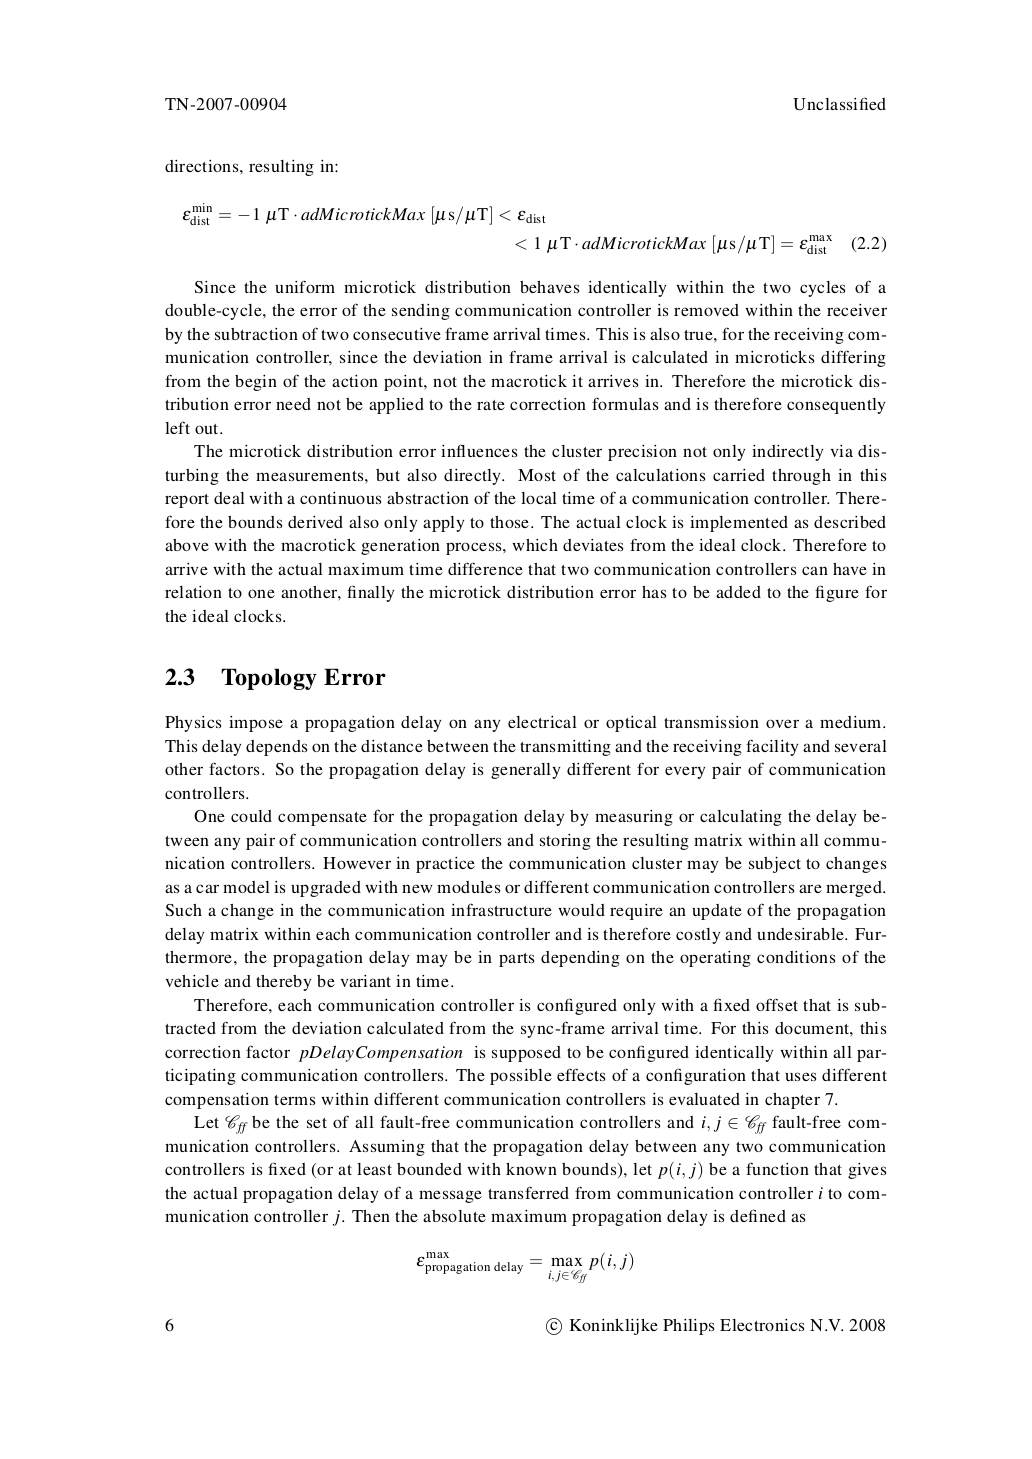formula: (182, 202, 545, 225), (515, 234, 886, 255), (415, 1251, 633, 1283)
